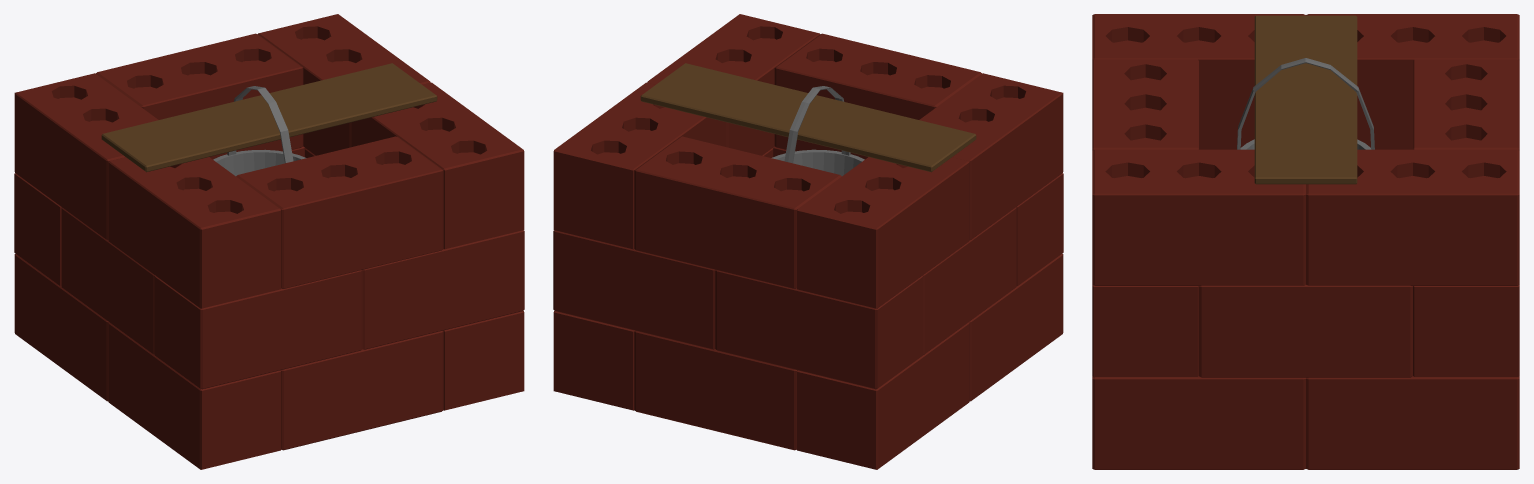
Rendered from furnace.fbx.
The picture shows the model from 3 angles, left to right: view 1: azimuth 30°, elevation 25°; view 2: azimuth 150°, elevation 25°; view 3: azimuth 270°, elevation 25°; orthographic projection. The views are drawn at different scales.
Visible parts, largest first — view 1: Plane; view 2: Plane; view 3: Plane.
Boxes of the visible parts, <box> form: Plane: <box>14,14,524,469</box>; Plane: <box>553,14,1063,469</box>; Plane: <box>1092,14,1519,469</box>.
Size of the model in its own units: 400 by 326 by 400.
